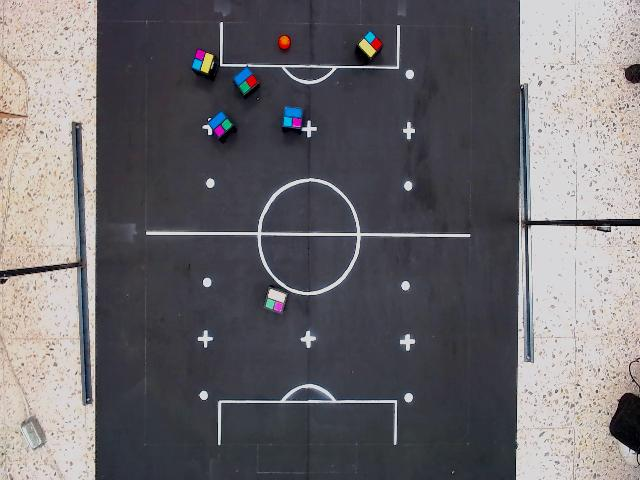robot: (355, 29, 384, 61), (261, 286, 290, 317), (232, 65, 261, 96), (207, 110, 235, 140), (190, 47, 216, 76), (280, 103, 305, 132)
